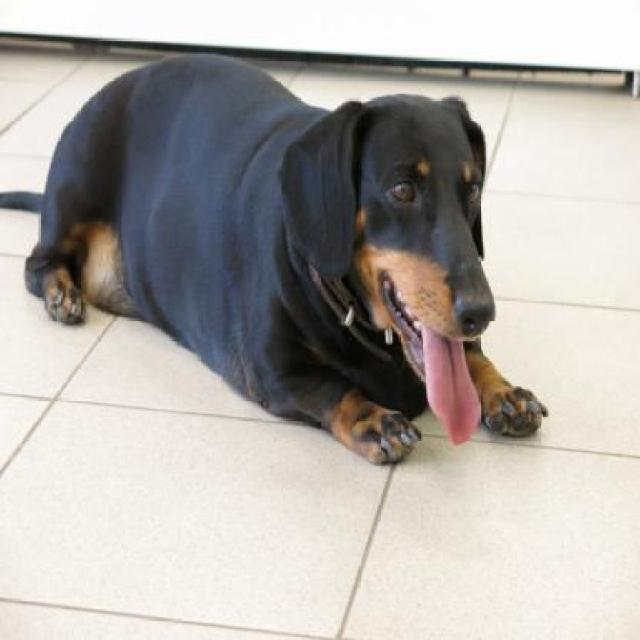Dog: (1, 48, 552, 470)
